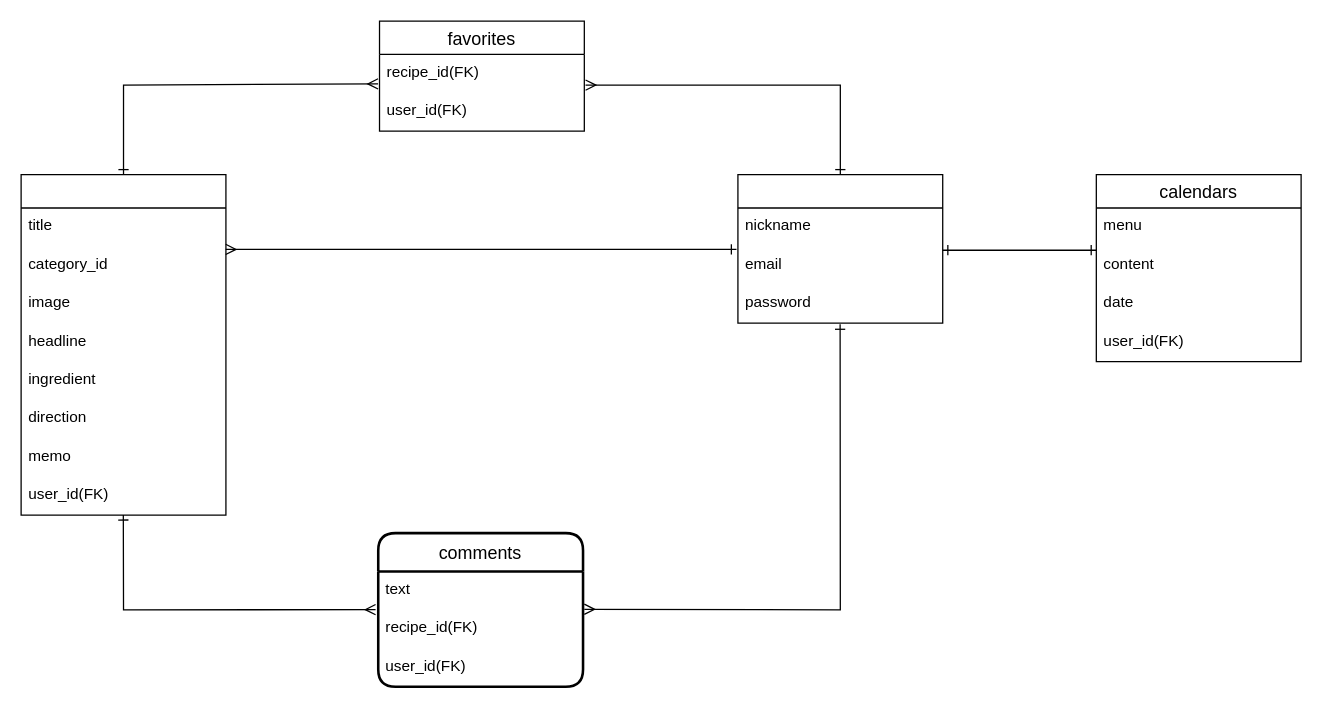
The diagram is 1322 pixels wide and 708 high, and some of its shapes have lost their labels. Each missing label, with the box of its shape:
recipes: (20, 173, 226, 515)
users: (737, 173, 943, 323)
